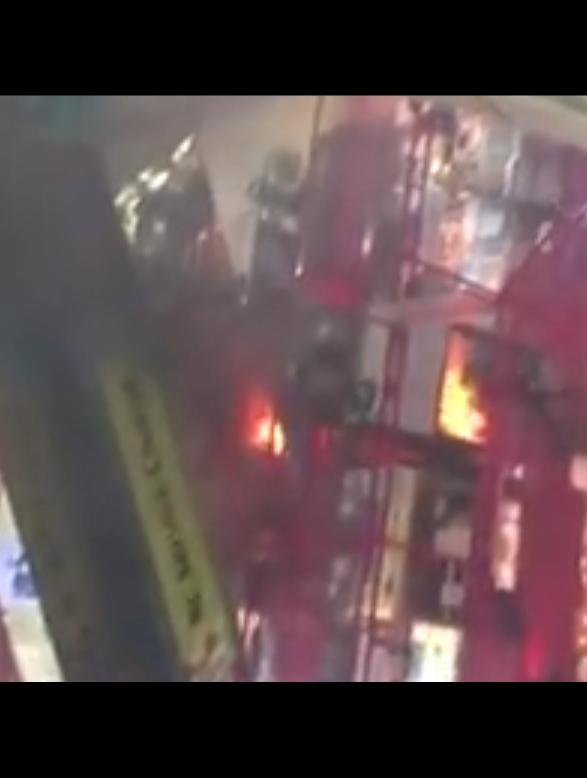fire: (421, 331, 510, 456), (223, 385, 303, 474)
